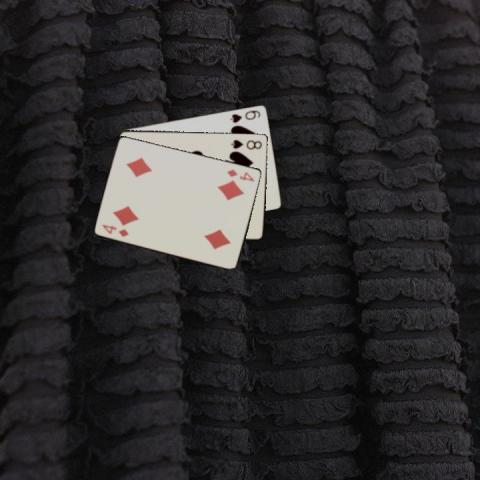4d: (225, 166, 256, 183), (99, 221, 130, 238)
6s: (227, 107, 262, 124)
8s: (228, 137, 263, 150)
